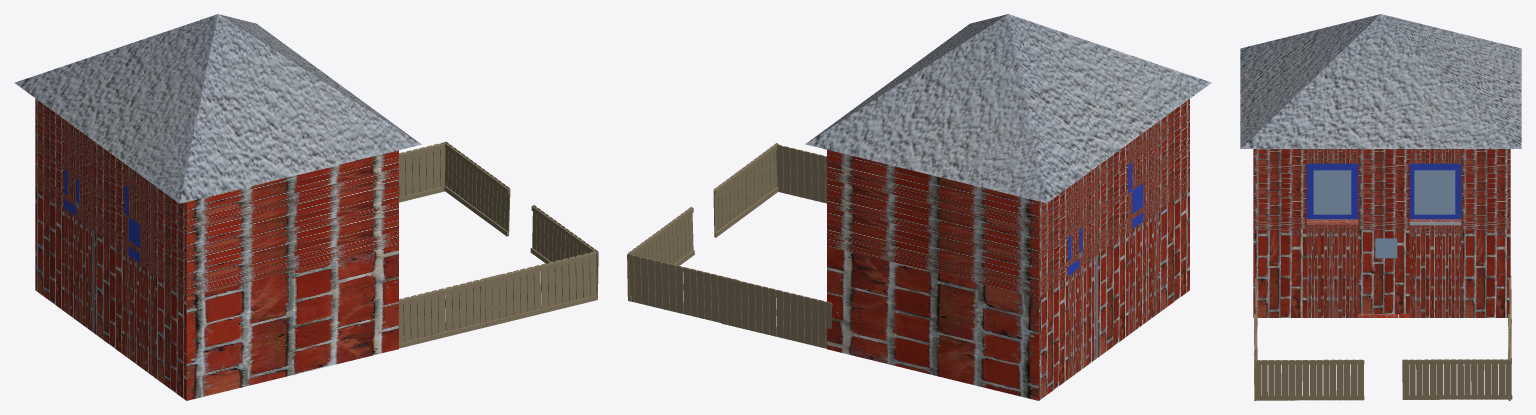
File: haus1_mit_vorgarten.fbx
3 renders of one model, left to right at view 1: azimuth 30°, elevation 25°; view 2: azimuth 150°, elevation 25°; view 3: azimuth 270°, elevation 25°, orthographic. The views are drawn at different scales.
Visible parts, largest first — view 1: haus; view 2: haus; view 3: haus.
Boxes of the visible parts, left/top/right/bottom form: haus: left=14, top=14, right=598, bottom=400; haus: left=627, top=14, right=1211, bottom=400; haus: left=1240, top=14, right=1521, bottom=400.
Size of the model in its own units: 1174 by 1754 by 1200.
